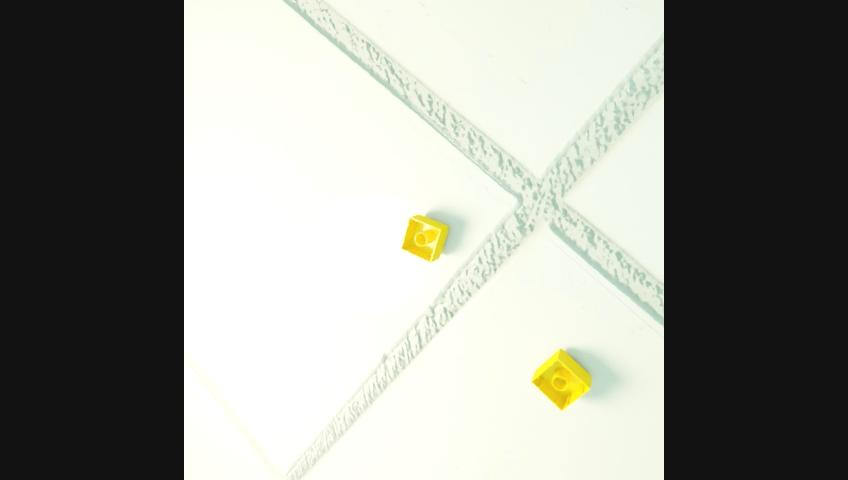2x2_yellow: (530, 348, 591, 411), (400, 215, 448, 263)
